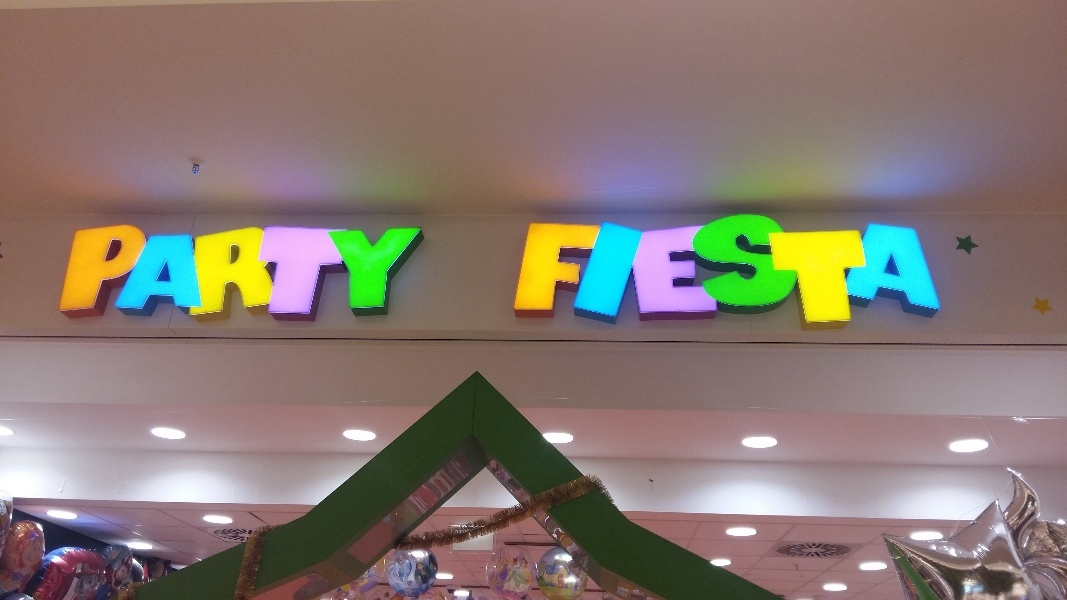text: (529, 209, 544, 329), (545, 209, 560, 329), (561, 209, 576, 329), (577, 209, 592, 329), (593, 209, 608, 329), (609, 209, 624, 329), (625, 209, 640, 329), (641, 209, 656, 329), (657, 209, 672, 329), (673, 209, 688, 329), (689, 209, 704, 329), (705, 209, 720, 329), (721, 209, 736, 329), (737, 209, 752, 329), (753, 209, 768, 329), (769, 209, 784, 329), (785, 209, 800, 329), (801, 209, 816, 329), (817, 209, 832, 329), (833, 209, 848, 329), (849, 209, 864, 329), (865, 209, 880, 329), (881, 209, 896, 329), (897, 209, 912, 329), (913, 209, 928, 329), (929, 209, 944, 329), (417, 223, 433, 319), (81, 223, 96, 319), (97, 223, 112, 319), (113, 223, 128, 319), (129, 223, 144, 319), (145, 223, 160, 319), (161, 223, 176, 319), (177, 223, 192, 319), (193, 223, 208, 319), (209, 223, 224, 319), (225, 223, 240, 319), (241, 223, 256, 319), (257, 223, 272, 319), (273, 223, 288, 319), (289, 223, 304, 319), (305, 223, 320, 319), (321, 223, 336, 319), (337, 223, 352, 319), (353, 223, 368, 319), (369, 223, 384, 319), (385, 223, 400, 319), (401, 223, 416, 319), (945, 209, 956, 329), (74, 223, 80, 319)
